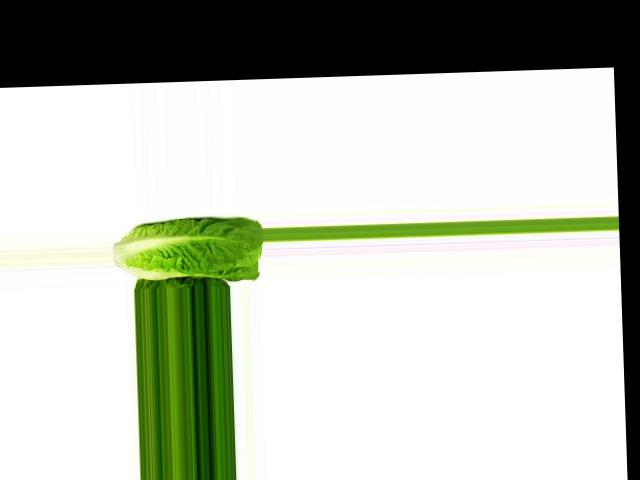lettuce: (112, 205, 265, 282)
